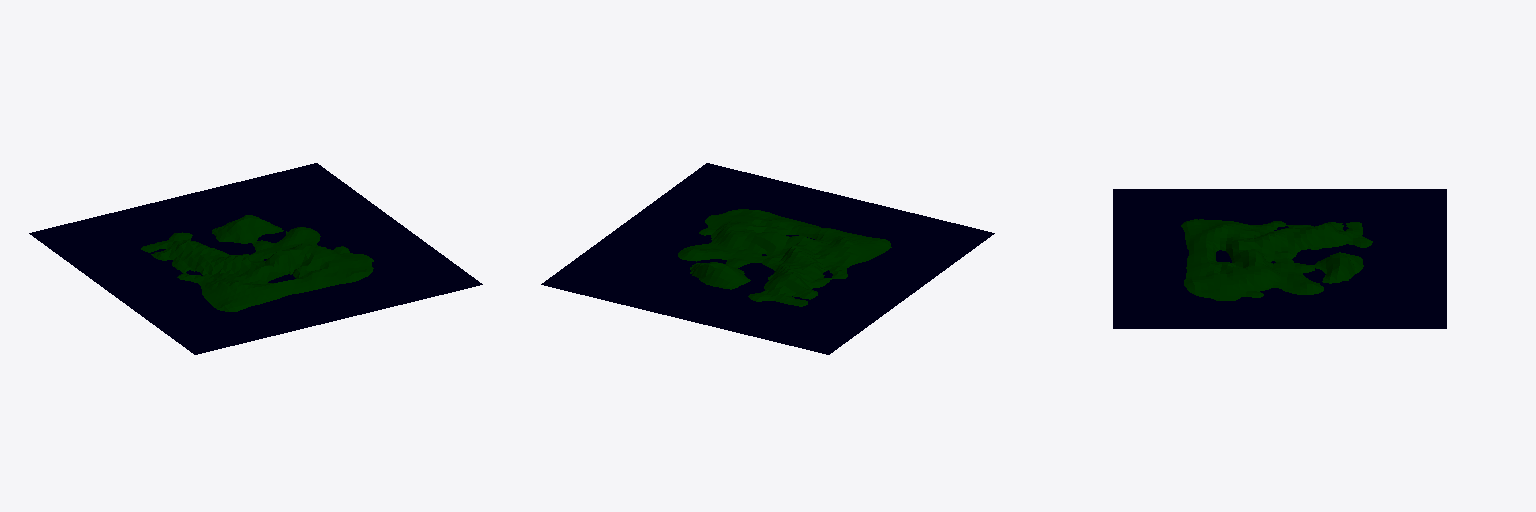
File: ground2.obj
3 views of the same model, side by side, from view 1: azimuth 30°, elevation 25°; view 2: azimuth 150°, elevation 25°; view 3: azimuth 270°, elevation 25° (orthographic).
Parts seen in each view (by area): view 1: water_S_Plane.001, ground_S_BT_Plane; view 2: water_S_Plane.001, ground_S_BT_Plane; view 3: water_S_Plane.001, ground_S_BT_Plane.
Part boxes in pixels (x1,y1,x2,y2): water_S_Plane.001: (29,163,482,354); ground_S_BT_Plane: (141,215,373,311); water_S_Plane.001: (541,163,994,354); ground_S_BT_Plane: (678,209,891,306); water_S_Plane.001: (1113,189,1446,328); ground_S_BT_Plane: (1181,219,1372,300).
Bounding box in the file's own units: 65.03 × 4.69 × 65.03.